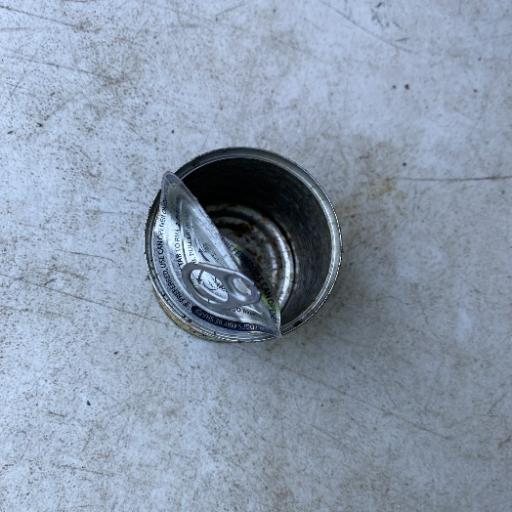Metal: (141, 144, 344, 345)
